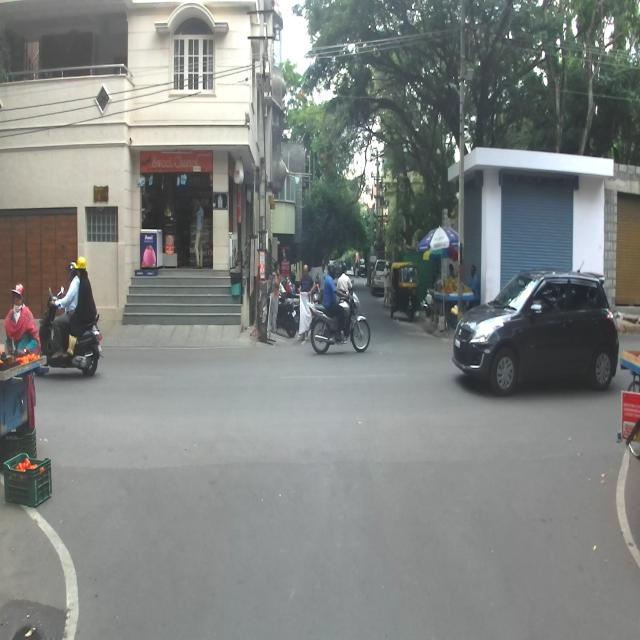car ahead at: (453, 266, 623, 404)
motorcycle ahead at: (45, 302, 103, 382), (307, 293, 374, 356)
